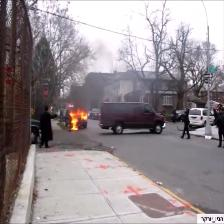fire: (64, 98, 96, 138)
